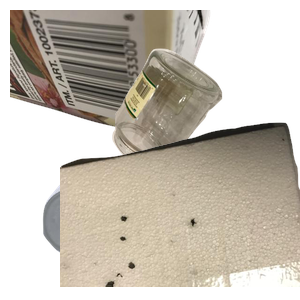cardboard: (10, 10, 213, 146)
glass: (110, 46, 300, 205)
plastic: (40, 170, 187, 300)
trash: (60, 120, 300, 300)
